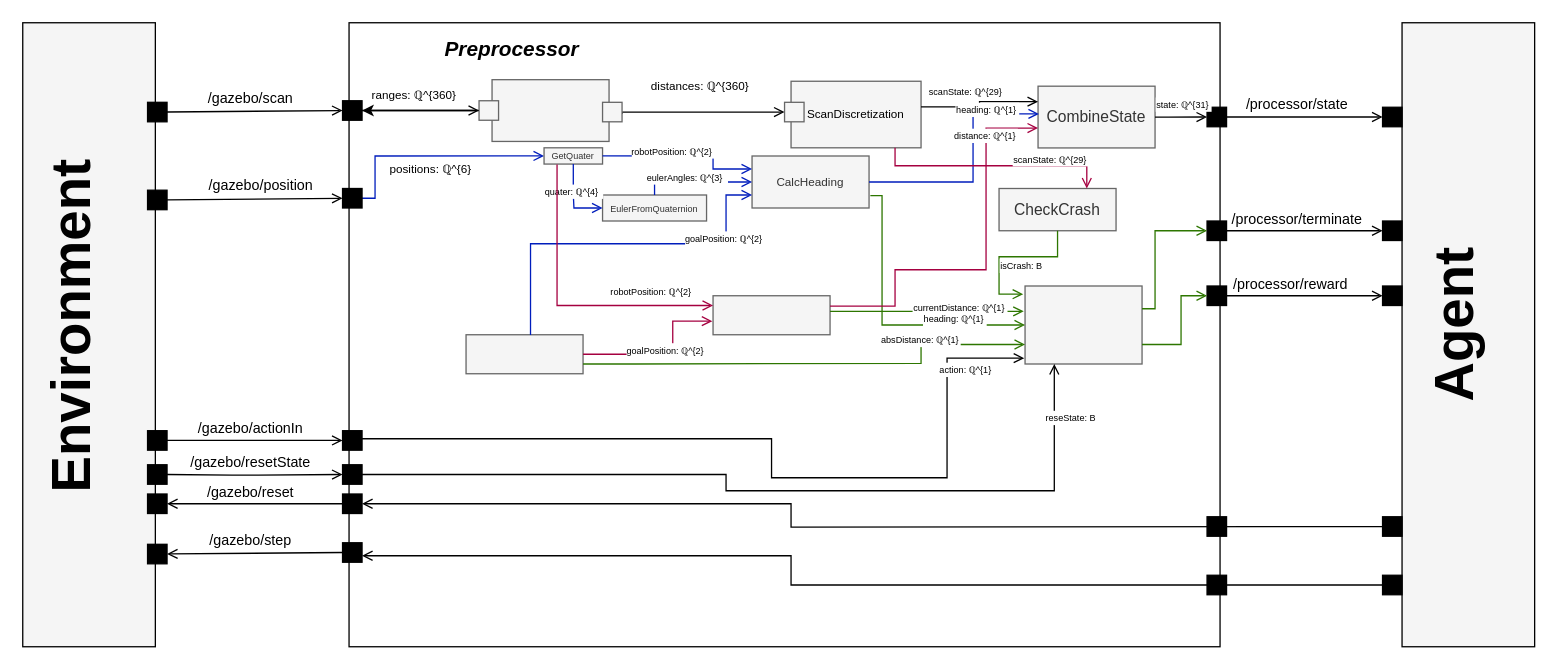
The diagram is 1557 pixels wide and 670 high, and some of its shapes have lost their labels. The shapes that lost their labels are listed below. From the top down, each one's centre as x and y in pixels, then its label:
At (x=550, y=109): "LidarScan".
At (x=771, y=314): "CalcDistance".
At (x=1083, y=324): "CalcReward".
At (x=524, y=353): "SetGoal".
